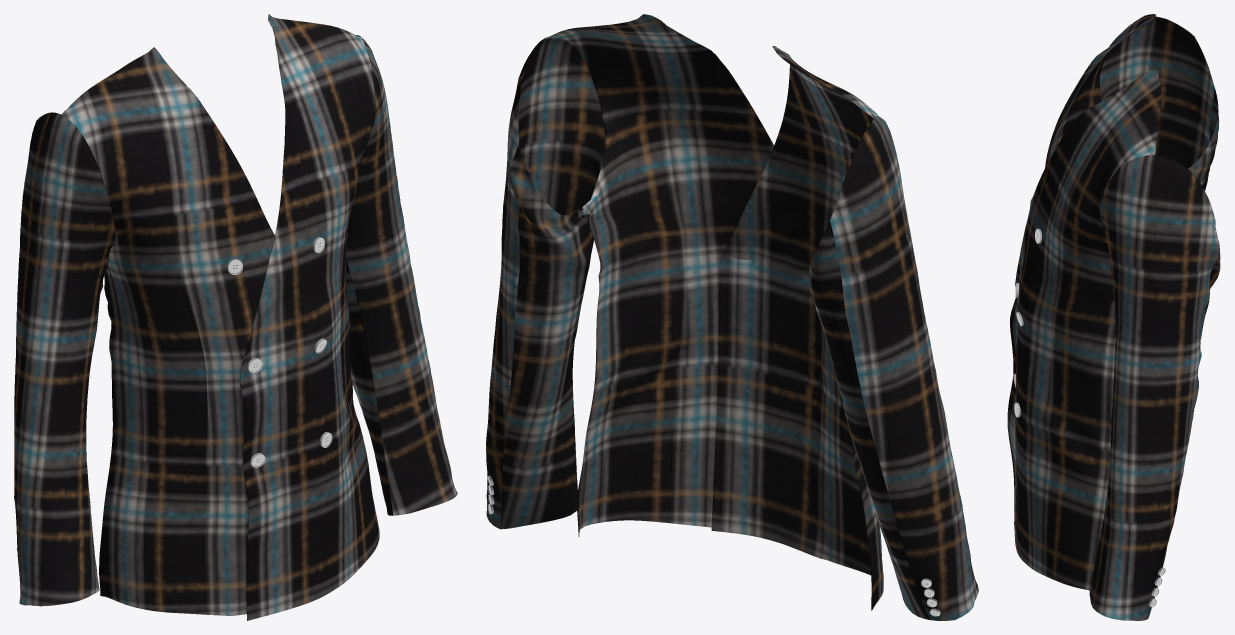
The picture shows the model from 3 angles, left to right: view 1: azimuth 30°, elevation 25°; view 2: azimuth 150°, elevation 25°; view 3: azimuth 270°, elevation 25°; orthographic projection. The views are drawn at different scales.
Visible parts, largest first — view 1: jacket (×5); view 2: jacket (×6); view 3: jacket (×5).
Boxes of the visible parts, x1=… form: jacket (×5): x1=14, y1=14, x2=457, y2=620; jacket (×6): x1=486, y1=14, x2=978, y2=620; jacket (×5): x1=1007, y1=14, x2=1219, y2=620.
Size of the model in its own units: 629 by 724 by 279.
Materials: 20 (20 with a texture image).
